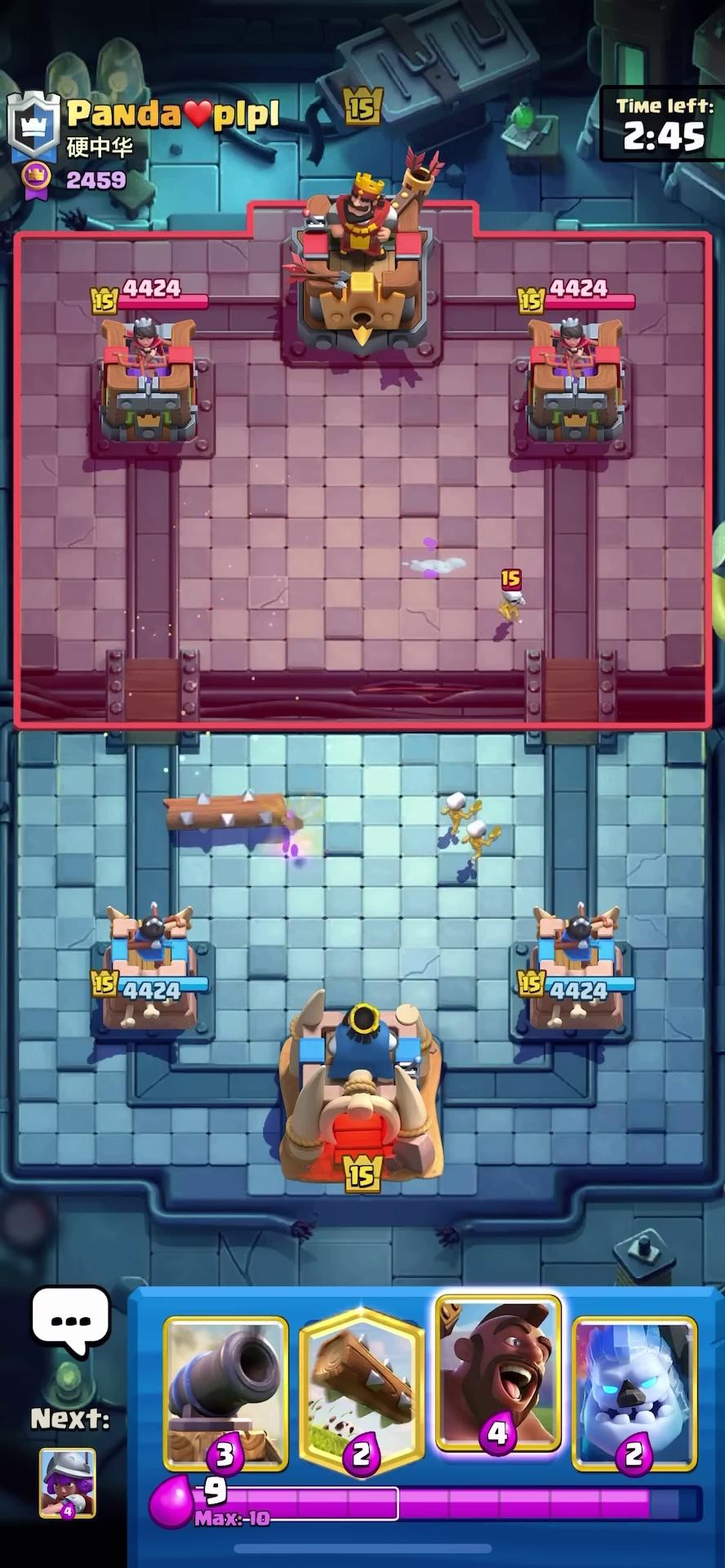log: (147, 782, 304, 839)
skeletons: (431, 782, 504, 872)
